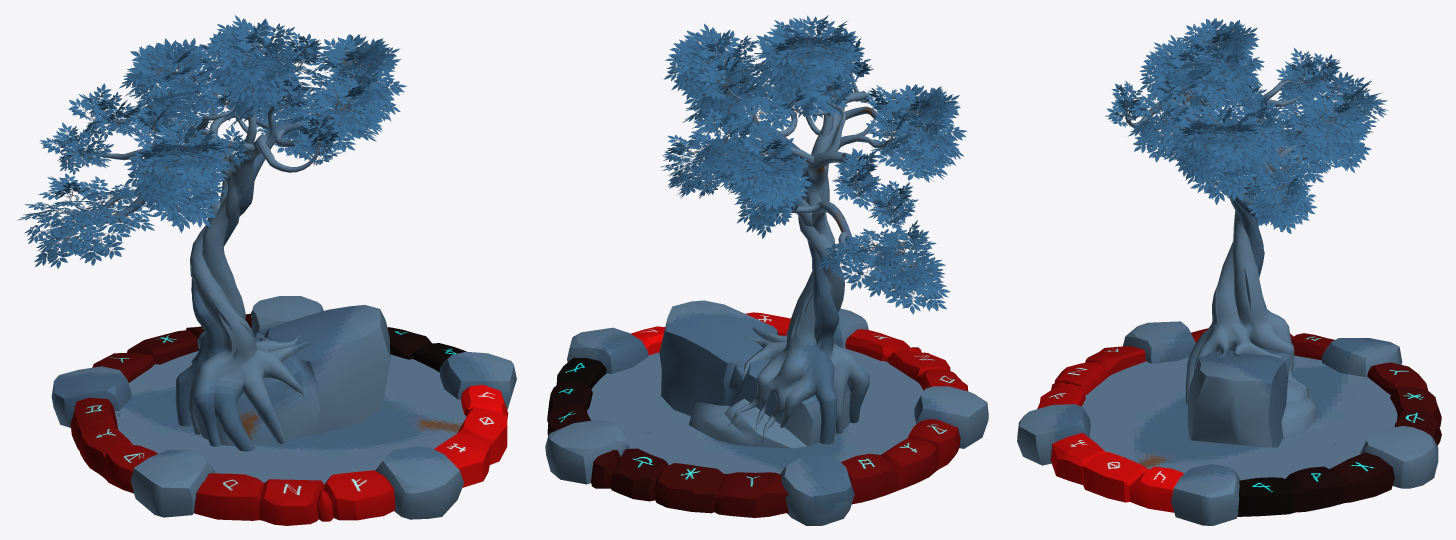
The model's file is YggDrasil.fbx.
3 views of the same model, side by side, from view 1: azimuth 30°, elevation 25°; view 2: azimuth 150°, elevation 25°; view 3: azimuth 270°, elevation 25° (orthographic). The views are drawn at different scales.
Parts seen in each view (by area): view 1: SM_Leaves_001.mo, SM_YggDrasil_001_RocksCercleGlow.mo, SM_YggDrasil_001_Tree.mo, SM_YggDrasil_001_Water.mo, SM_YggDrasil_001_RocksGlow.mo, SM_YggDrasil_001_RockMiddle.mo; view 2: SM_Leaves_001.mo, SM_YggDrasil_001_RocksCercleGlow.mo, SM_YggDrasil_001_Tree.mo, SM_YggDrasil_001_Water.mo, SM_YggDrasil_001_RockMiddle.mo, SM_YggDrasil_001_RocksGlow.mo; view 3: SM_Leaves_001.mo, SM_YggDrasil_001_Water.mo, SM_YggDrasil_001_RocksCercleGlow.mo, SM_YggDrasil_001_RocksGlow.mo, SM_YggDrasil_001_RockMiddle.mo, SM_YggDrasil_001_Tree.mo.
Boxes of the visible parts, x1,y1,x2,y2 form: SM_Leaves_001.mo: (17, 15, 406, 268); SM_YggDrasil_001_RocksCercleGlow.mo: (70, 314, 508, 525); SM_YggDrasil_001_Tree.mo: (50, 54, 355, 451); SM_YggDrasil_001_Water.mo: (114, 351, 466, 484); SM_YggDrasil_001_RocksGlow.mo: (51, 296, 516, 519); SM_YggDrasil_001_RockMiddle.mo: (191, 305, 390, 445); SM_Leaves_001.mo: (660, 15, 966, 314); SM_YggDrasil_001_RocksCercleGlow.mo: (547, 312, 968, 517); SM_YggDrasil_001_Tree.mo: (714, 49, 938, 444); SM_YggDrasil_001_Water.mo: (587, 347, 923, 473); SM_YggDrasil_001_RockMiddle.mo: (659, 300, 850, 448); SM_YggDrasil_001_RocksGlow.mo: (545, 308, 988, 525); SM_Leaves_001.mo: (1105, 18, 1388, 233); SM_YggDrasil_001_Water.mo: (1082, 355, 1397, 480); SM_YggDrasil_001_RocksCercleGlow.mo: (1037, 328, 1441, 516); SM_YggDrasil_001_RocksGlow.mo: (1017, 321, 1438, 525); SM_YggDrasil_001_RockMiddle.mo: (1187, 348, 1317, 447); SM_YggDrasil_001_Tree.mo: (1124, 74, 1363, 405).
Bounding box in the file's own units: 914 × 874 × 830.
